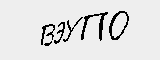В: (37, 19, 54, 49)
О: (108, 9, 131, 42)
П: (81, 10, 108, 42)
У: (63, 16, 81, 46)
Э: (54, 20, 65, 48)
